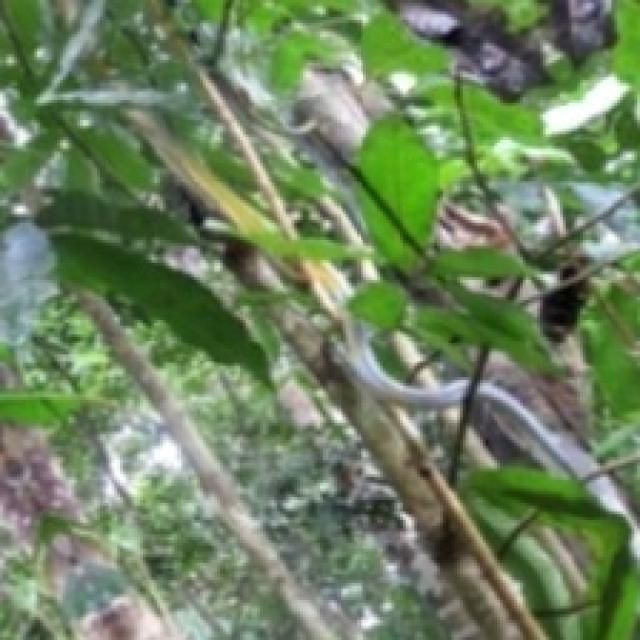red-tailed green ratsnake: (301, 259, 468, 408), (130, 112, 280, 253), (481, 382, 590, 477), (591, 480, 629, 514)
